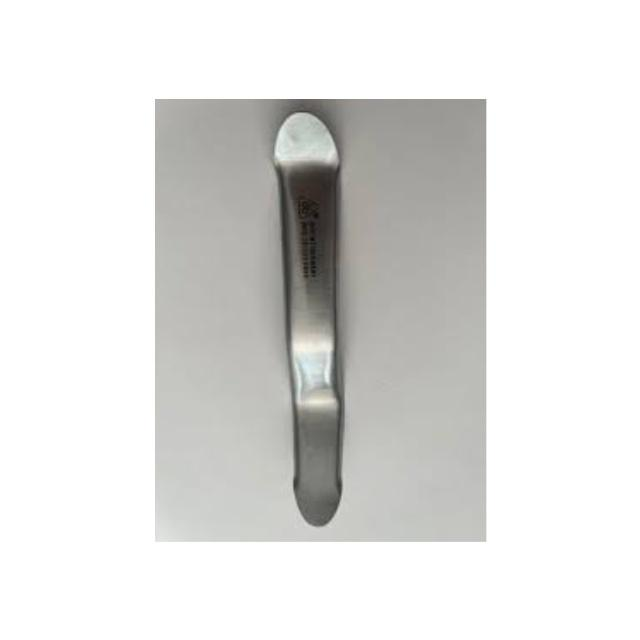separador: (271, 112, 345, 531)
